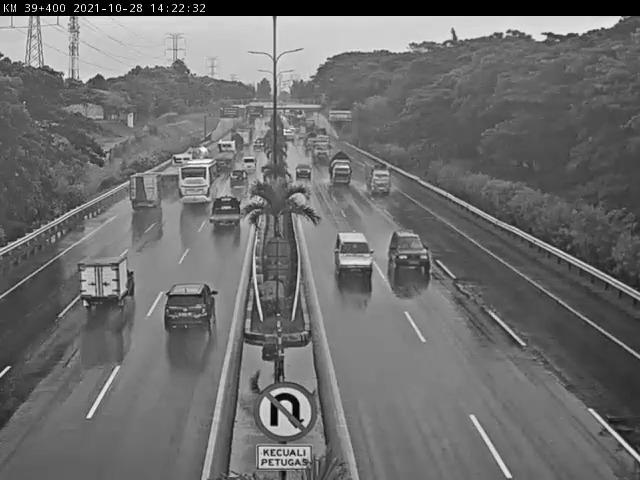big bus: (178, 158, 220, 202)
big truck: (129, 170, 163, 208), (213, 138, 236, 167)
car: (163, 281, 218, 336), (331, 226, 375, 292), (389, 226, 431, 277), (211, 191, 242, 224), (228, 171, 250, 193), (295, 164, 313, 181), (243, 154, 258, 170), (251, 139, 264, 154)
small truck: (77, 253, 142, 310), (362, 158, 394, 194), (166, 152, 196, 178), (330, 154, 351, 187), (230, 128, 251, 153)
